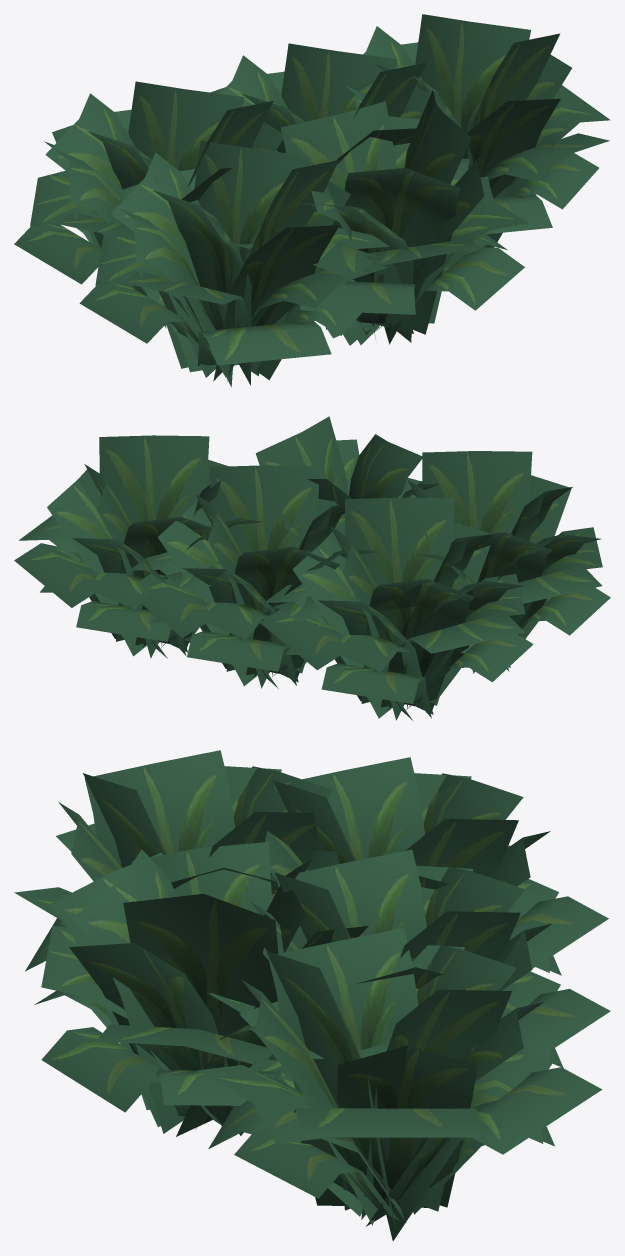
Rendered from Grass.FBX.
3 views of the same model, one above another, from view 1: azimuth 30°, elevation 25°; view 2: azimuth 150°, elevation 25°; view 3: azimuth 270°, elevation 25° (orthographic). The views are drawn at different scales.
Visible parts, largest first — view 1: Mesh_0066; view 2: Mesh_0066; view 3: Mesh_0066.
Part boxes in pixels (x1,y1,x2,y2): Mesh_0066: (14, 14, 610, 387); Mesh_0066: (14, 416, 610, 720); Mesh_0066: (14, 750, 610, 1240).
Bounding box in the file's own units: 17569 × 6490 × 13251.
